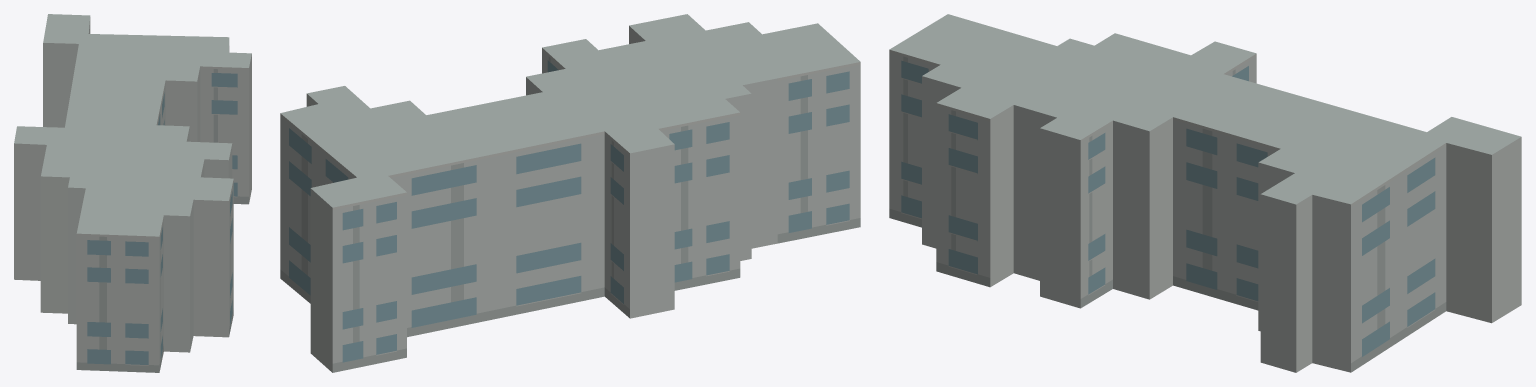
File: residential-5fd839ae-153a-4b22-bdac-98d7c95d01dd.glb
The picture shows the model from 3 angles, left to right: view 1: azimuth 30°, elevation 25°; view 2: azimuth 150°, elevation 25°; view 3: azimuth 270°, elevation 25°; orthographic projection. The views are drawn at different scales.
Parts seen in each view (by area): view 1: residential-5fd839ae-153a-4b22-bdac-98d7c95d01dd.tmp; view 2: residential-5fd839ae-153a-4b22-bdac-98d7c95d01dd.tmp; view 3: residential-5fd839ae-153a-4b22-bdac-98d7c95d01dd.tmp.
Boxes of the visible parts, <box> form: residential-5fd839ae-153a-4b22-bdac-98d7c95d01dd.tmp: <box>14,14,251,372</box>; residential-5fd839ae-153a-4b22-bdac-98d7c95d01dd.tmp: <box>280,14,860,372</box>; residential-5fd839ae-153a-4b22-bdac-98d7c95d01dd.tmp: <box>889,14,1521,372</box>.
Bounding box in the file's own units: 37.02 × 15.25 × 51.92.
